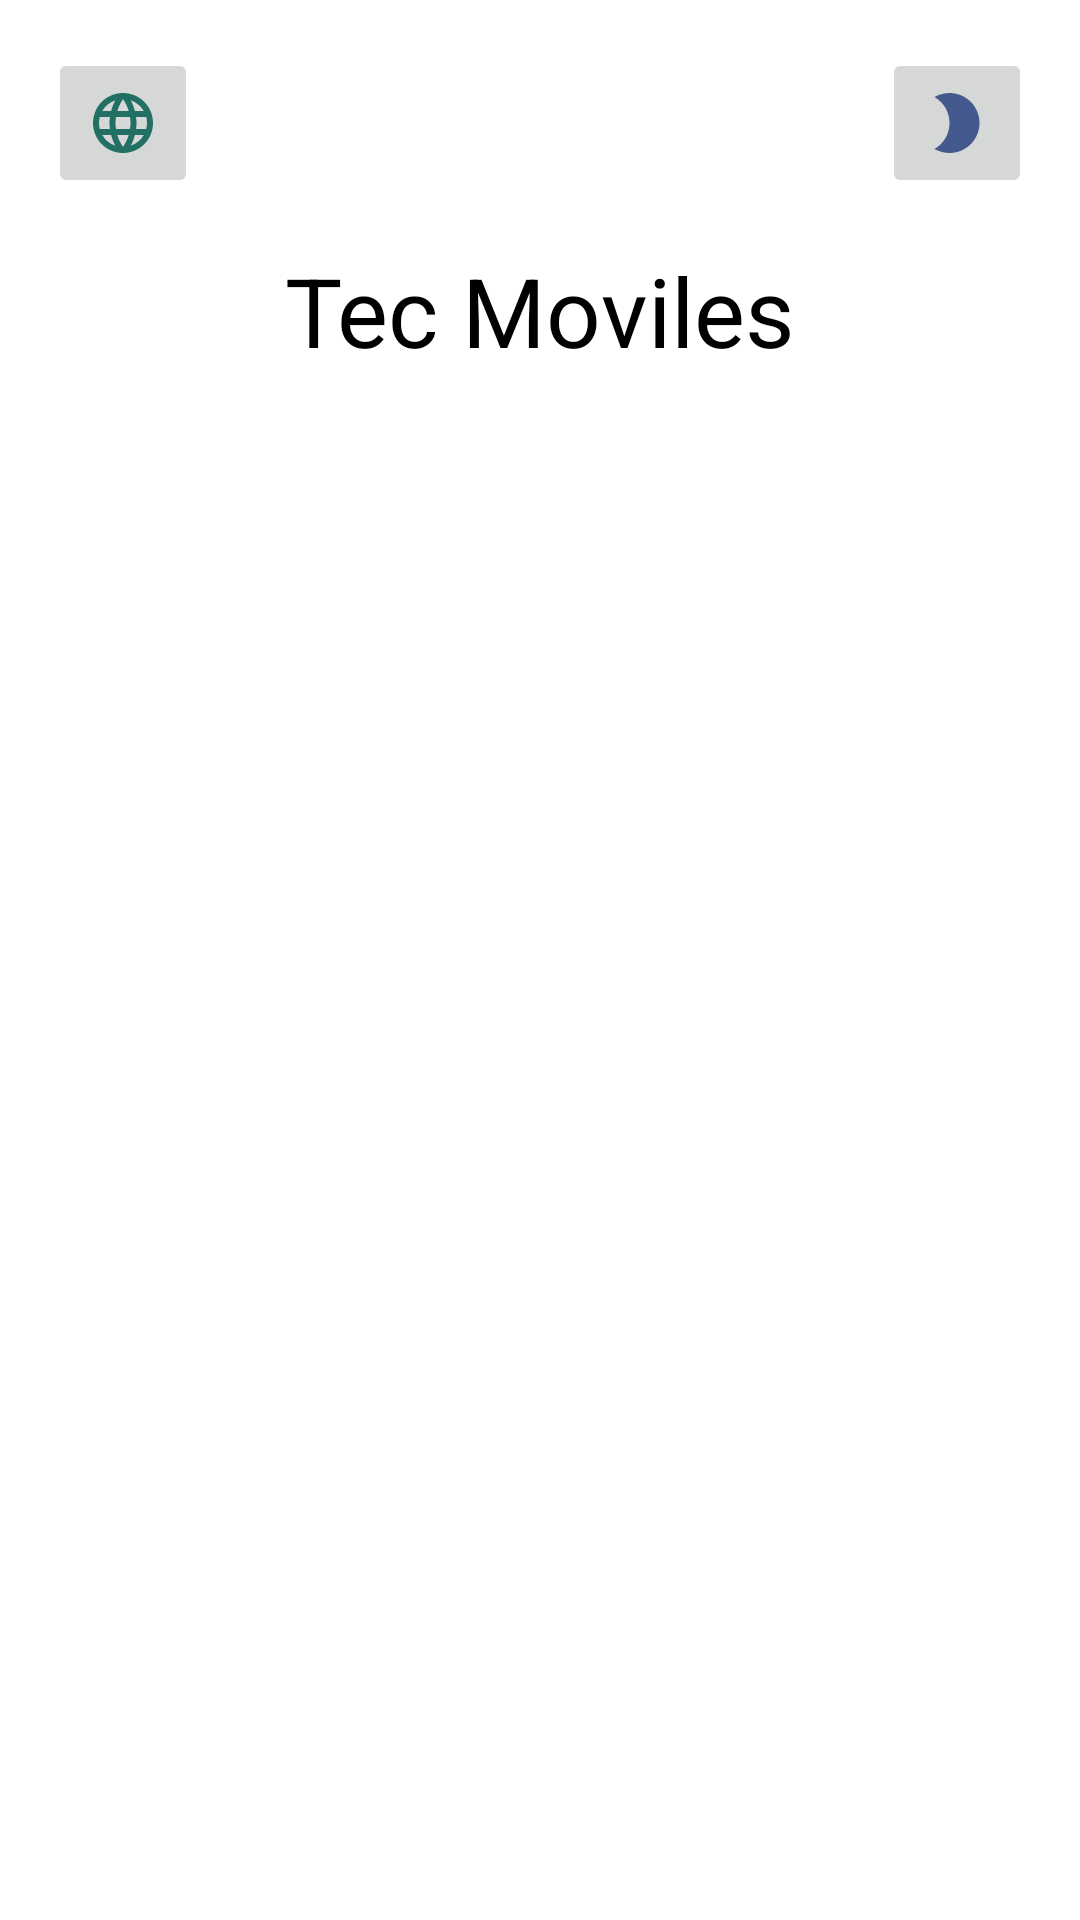

Screen size 1080*1920. Icon name, then its box in pixels as (x1=x1, y1=y1, x2=x2, y2=y2):
language: (x1=60, y1=66, x2=186, y2=180)
mode: (x1=894, y1=66, x2=1020, y2=180)
